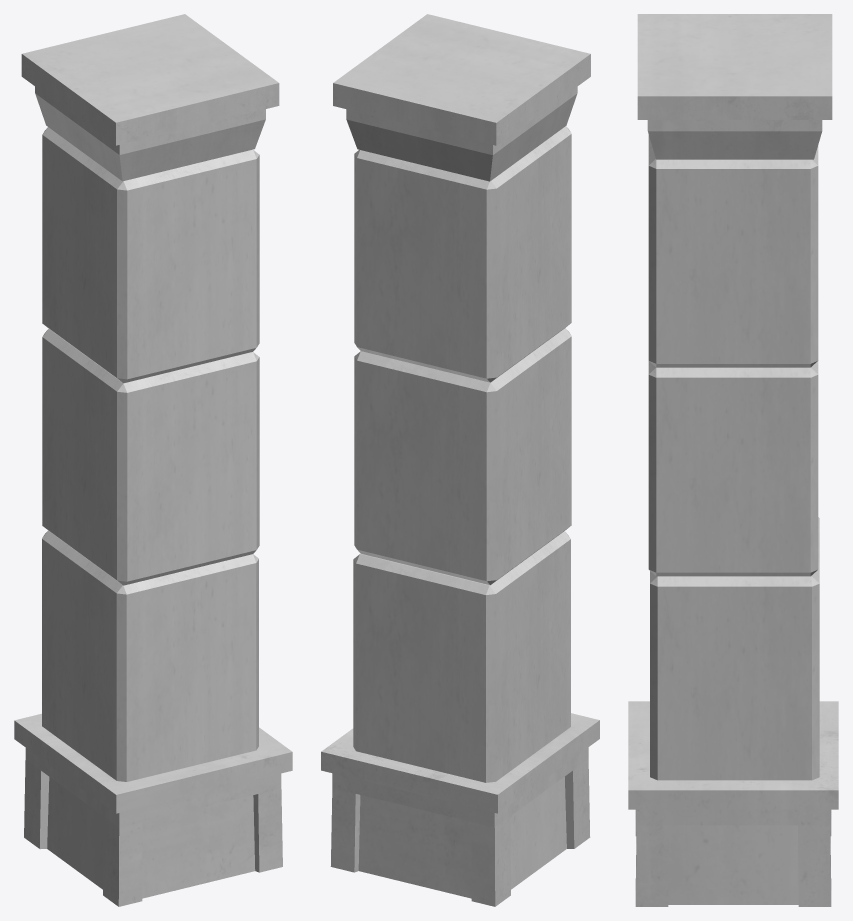
File: Pillar_C.fbx
3 renders of one model, left to right at view 1: azimuth 30°, elevation 25°; view 2: azimuth 150°, elevation 25°; view 3: azimuth 270°, elevation 25°, orthographic. The views are drawn at different scales.
Parts seen in each view (by area): view 1: Pillar_C; view 2: Pillar_C; view 3: Pillar_C.
Part boxes in pixels (bbox=[...]): Pillar_C: bbox=[14, 14, 292, 906]; Pillar_C: bbox=[321, 14, 599, 906]; Pillar_C: bbox=[628, 14, 838, 906].
Size of the model in its own units: 84.06 by 357 by 84.06.
1 material, 1 textured.
